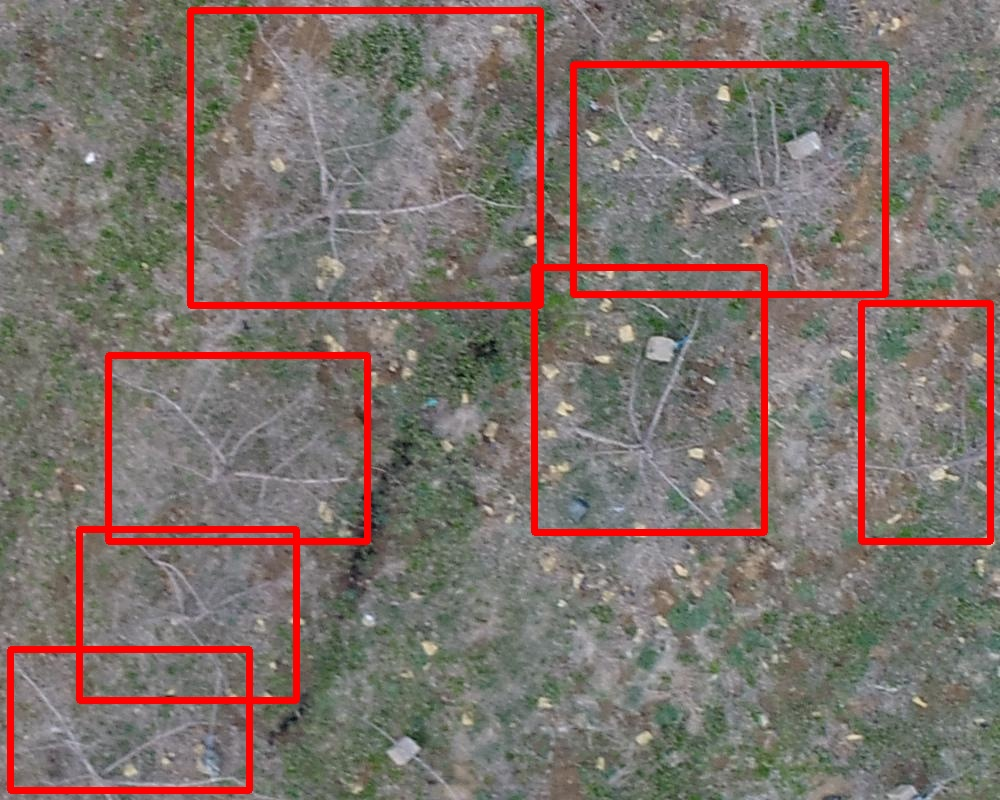apple: (190, 10, 540, 305), (573, 64, 885, 294), (534, 267, 764, 532), (108, 355, 367, 541), (79, 529, 296, 700), (10, 649, 249, 790), (861, 303, 990, 541)
